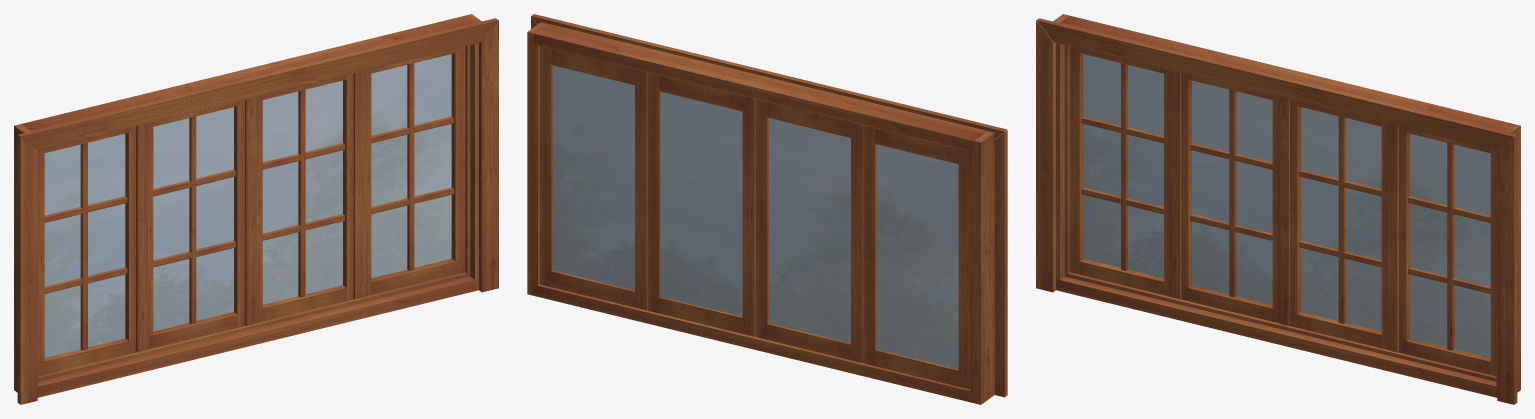
3 renders of one model, left to right at view 1: azimuth 30°, elevation 25°; view 2: azimuth 150°, elevation 25°; view 3: azimuth 330°, elevation 25°, orthographic.
Visible parts, largest first — view 1: glass001, glass003, glass002, glass004, trim_top, box_bottom, trim_left, trim_right, box_top, window_right004, astragal003, astragal002 (+24 smaller); view 2: glass001, glass003, glass002, glass004, box_top, box_left, box_bottom, trim_left, box_right, trim_top, window_right003, window_right001 (+14 smaller); view 3: glass002, glass004, glass001, glass003, trim_top, box_bottom, trim_right, trim_left, box_top, window_left001, astragal001, astragal002 (+24 smaller).
Boxes of the visible parts, x1,y1,x2,y2 form: glass001: (44,134,125,357); glass003: (262,80,342,304); glass002: (153,107,233,331); glass004: (371,54,451,278); trim_top: (18,18,498,150); box_bottom: (37,276,478,397); trim_left: (17,135,37,404); trim_right: (479,20,498,292); box_top: (21,15,474,131); window_right004: (451,46,465,273); astragal003: (353,70,365,299); astragal002: (245,97,256,325); glass001: (876,144,958,369); glass003: (660,91,742,316); glass002: (769,118,850,342); glass004: (553,65,634,290); box_top: (534,24,987,151); box_left: (970,131,994,404); box_bottom: (534,284,974,402); trim_left: (994,130,1007,397); box_right: (527,22,547,295); trim_top: (531,14,1007,139); window_right003: (647,72,660,313); window_right001: (863,125,876,365); glass002: (1192,80,1272,304); glass004: (1410,134,1490,357); glass001: (1083,54,1163,278); glass003: (1301,107,1381,331); trim_top: (1036,18,1516,150); box_bottom: (1056,276,1497,397); trim_right: (1497,135,1517,404); trim_left: (1036,20,1055,292); box_top: (1060,15,1513,131); window_left001: (1069,46,1083,274); astragal001: (1169,70,1181,299); astragal002: (1278,97,1289,325).
Size of the model in its own units: 70 by 37.51 by 4.25.
Materials: 7 (7 with a texture image).
